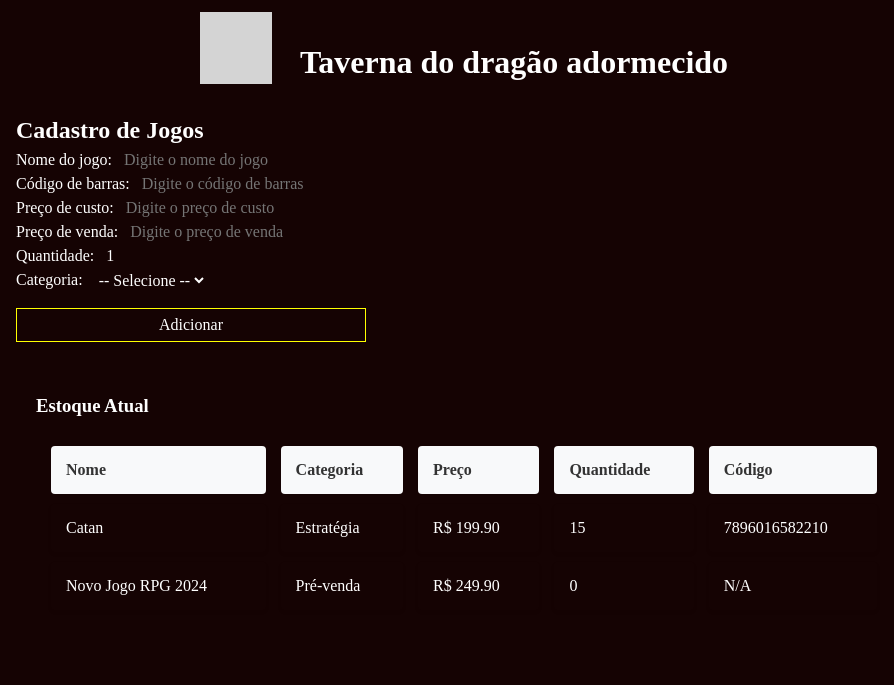
Test: Testes de Integração - Cadastro de Jogos › deve cadastrar novo jogo via API
Type "Novo Jogo" into the field labelled "Nome do jogo:" at (224, 160), box [124,148,324,172]
Type "7891234567890" into the field labelled "Código de barras:" at (242, 184), box [142,172,342,196]
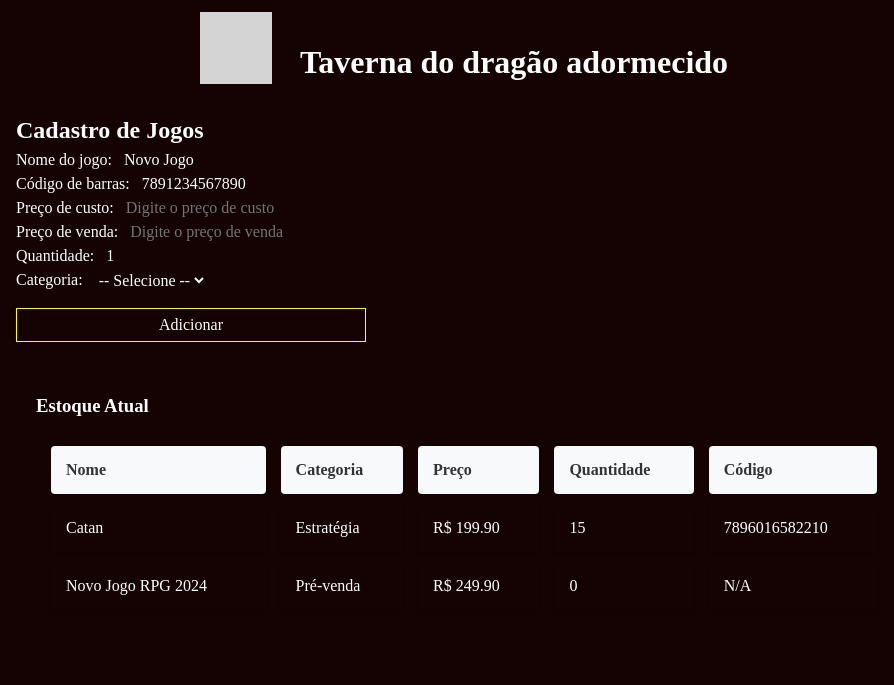
Type "100" into the number field labelled "Preço de custo:" at (226, 208), box [126,196,326,220]
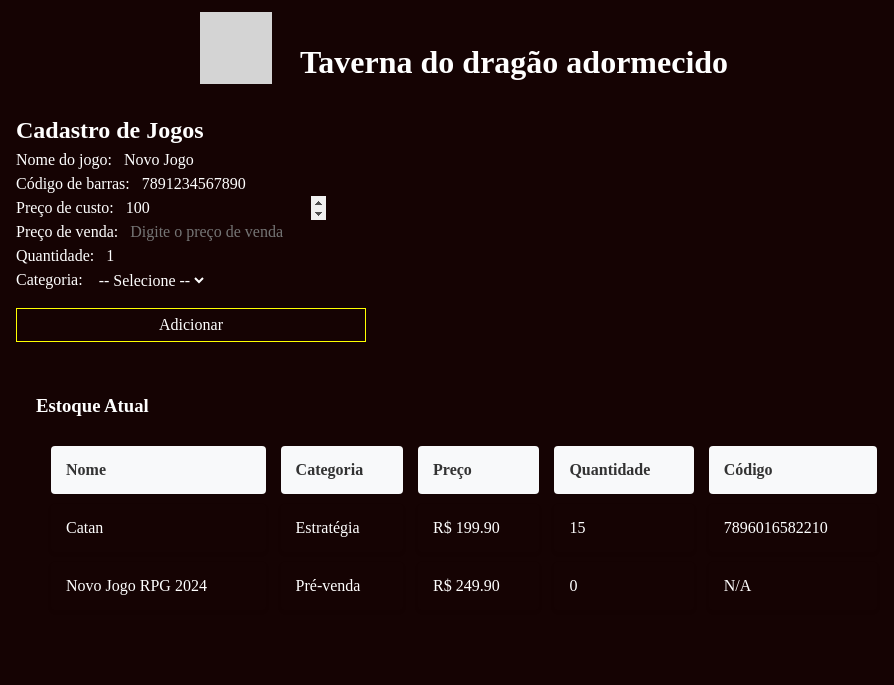
Type "200" into the number field labelled "Preço de venda:" at (230, 232), box [130,220,330,244]
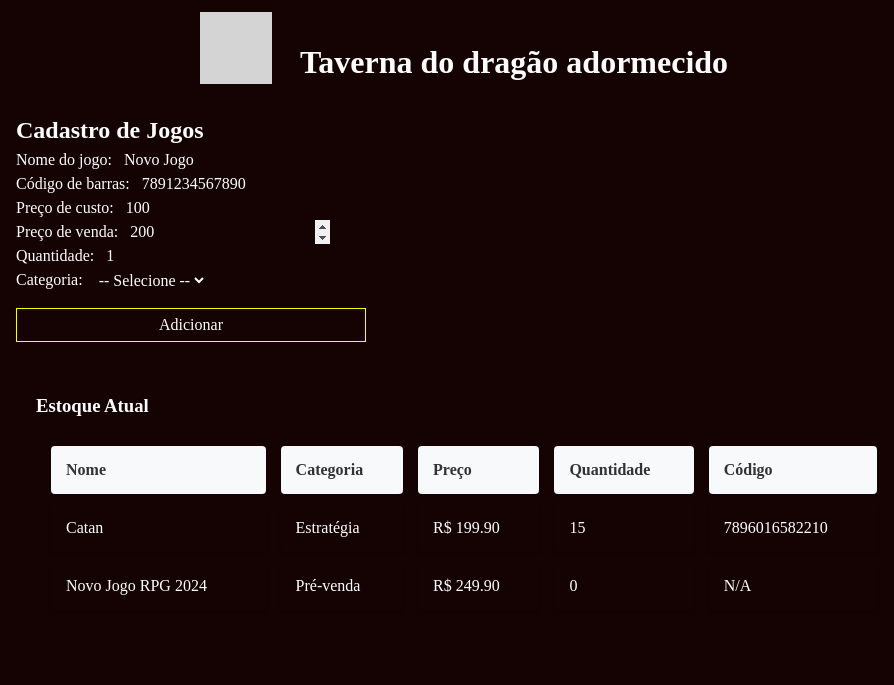
Type "5" into the number field labelled "Quantidade:" at (206, 256), box [106,244,306,268]
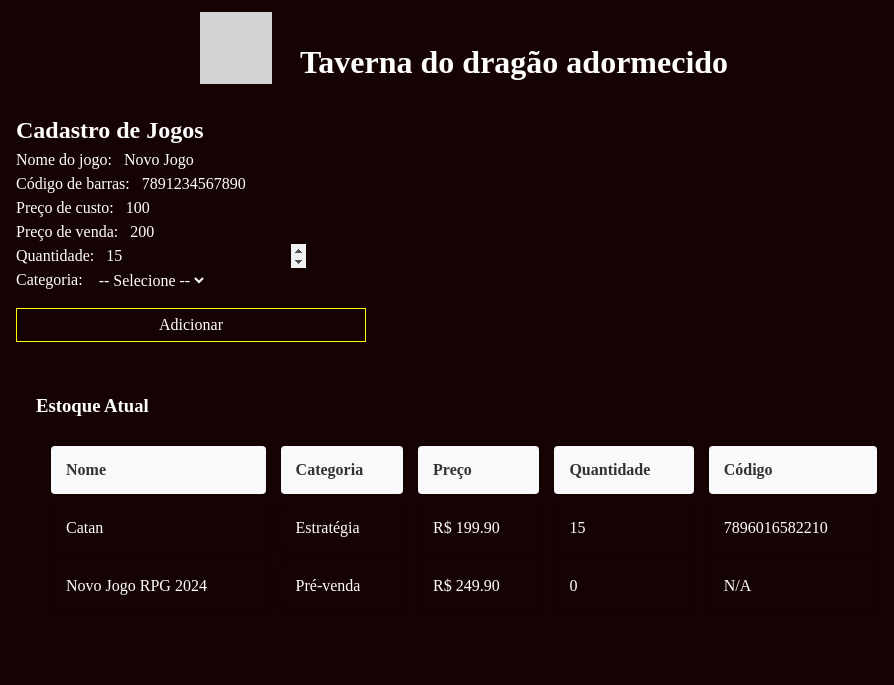
Select "Estratégia" in the dropdown labelled "Categoria:" at (151, 280), box [95,268,207,292]
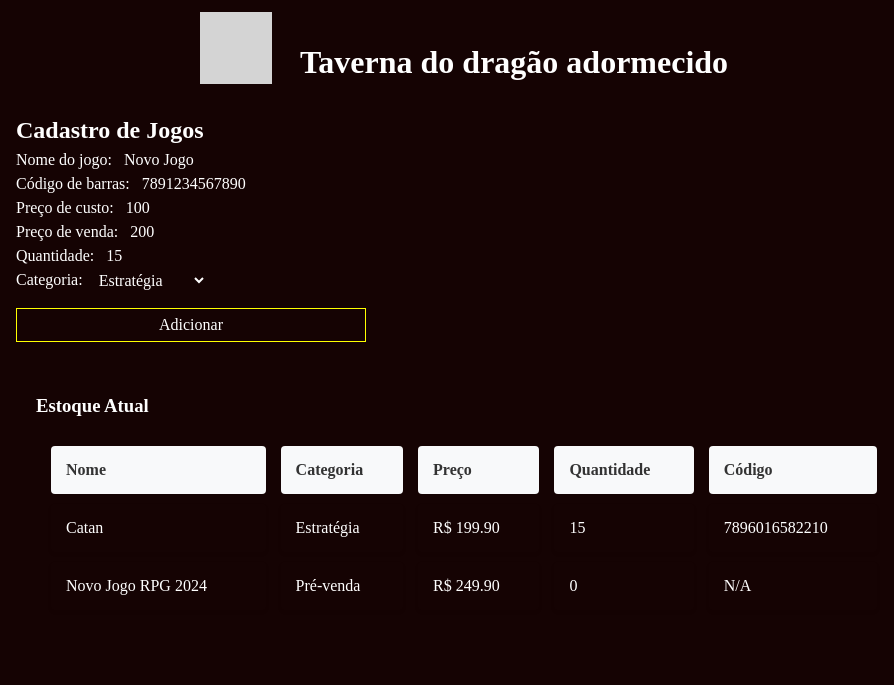
Click the button "Adicionar" at (191, 325), box [16,308,366,342]
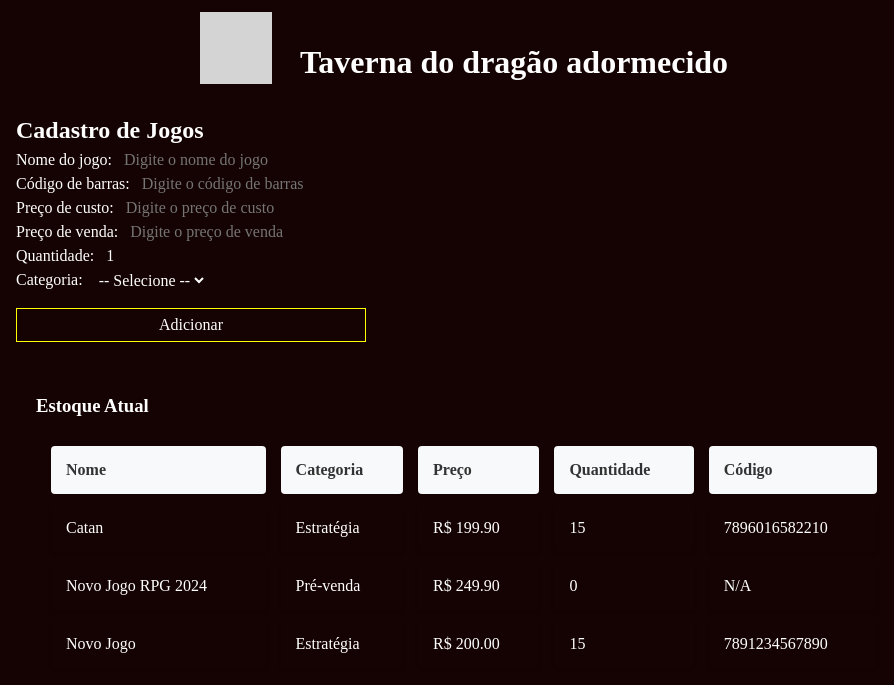
Expected: the text "Novo Jogo" is shown, [51,620,266,668]
Expected: the text "R$ 200.00" is shown, [418,620,539,668]
